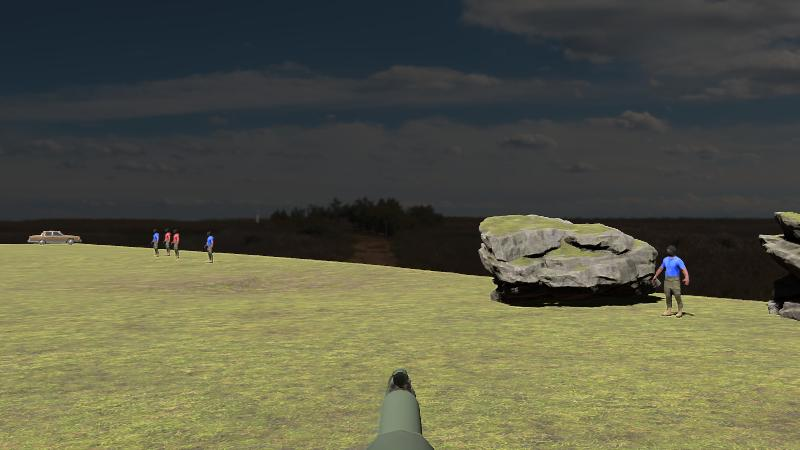Human: (654, 244, 689, 318)
car: (28, 230, 81, 246)
